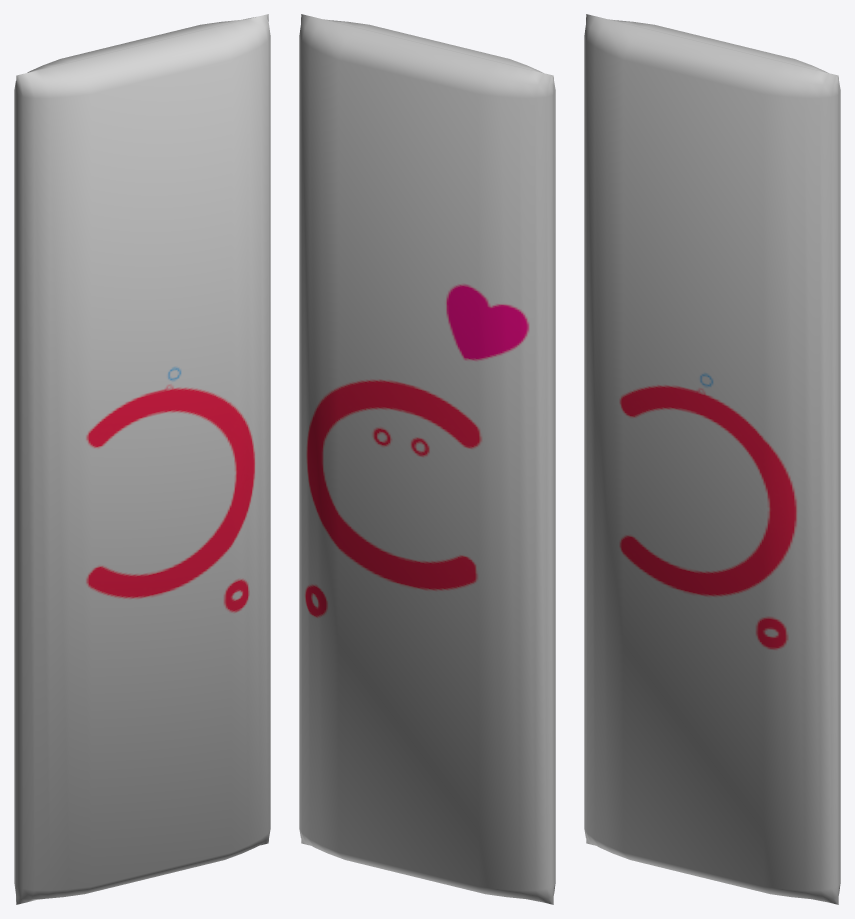
File: image-patterns-item.fbx
The picture shows the model from 3 angles, left to right: view 1: azimuth 30°, elevation 25°; view 2: azimuth 150°, elevation 25°; view 3: azimuth 330°, elevation 25°; orthographic projection.
Parts seen in each view (by area): view 1: image-patterns-item; view 2: image-patterns-item; view 3: image-patterns-item.
Boxes of the visible parts, <box> form: image-patterns-item: <box>14,14,270,904</box>; image-patterns-item: <box>299,14,555,904</box>; image-patterns-item: <box>584,14,840,904</box>.
Bounding box in the file's own units: 0.5 × 1.57 × 0.1304.
